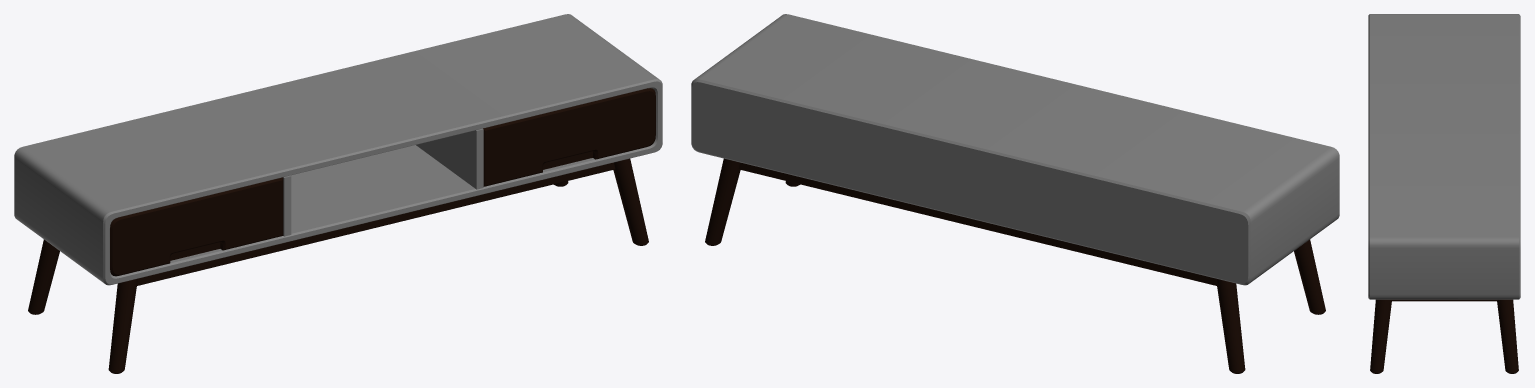
The model's file is h-006_dresser_03_F.FBX.
The picture shows the model from 3 angles, left to right: view 1: azimuth 30°, elevation 25°; view 2: azimuth 150°, elevation 25°; view 3: azimuth 270°, elevation 25°; orthographic projection. The views are drawn at different scales.
Visible parts, largest first — view 1: h-006_dresser_03_frame, h-006_dresser_03_drawer_L, h-006_dresser_03_drawer_R; view 2: h-006_dresser_03_frame; view 3: h-006_dresser_03_frame.
Boxes of the visible parts, x1,y1,x2,y2 form: h-006_dresser_03_frame: (14,14,662,373); h-006_dresser_03_drawer_L: (110,177,283,276); h-006_dresser_03_drawer_R: (483,88,655,186); h-006_dresser_03_frame: (691,14,1339,373); h-006_dresser_03_frame: (1368,14,1520,373).
Size of the model in its own units: 32 by 9 by 9.
